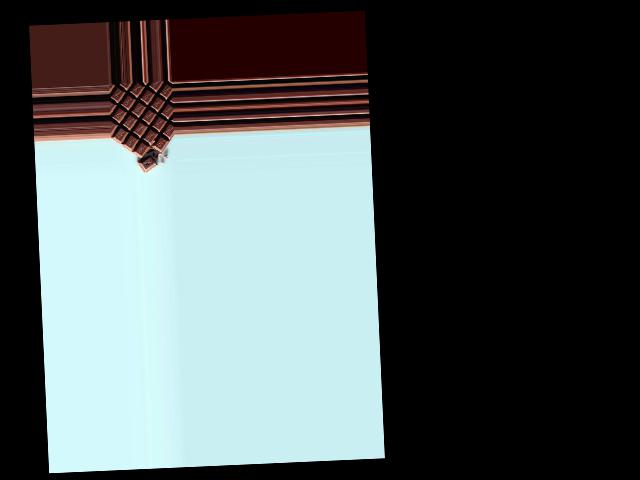chocolate: (111, 80, 174, 164)
